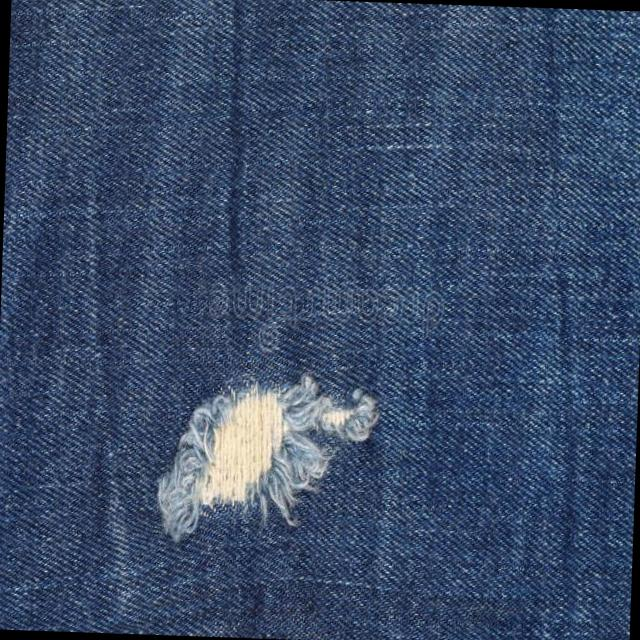hole: (158, 370, 380, 541)
